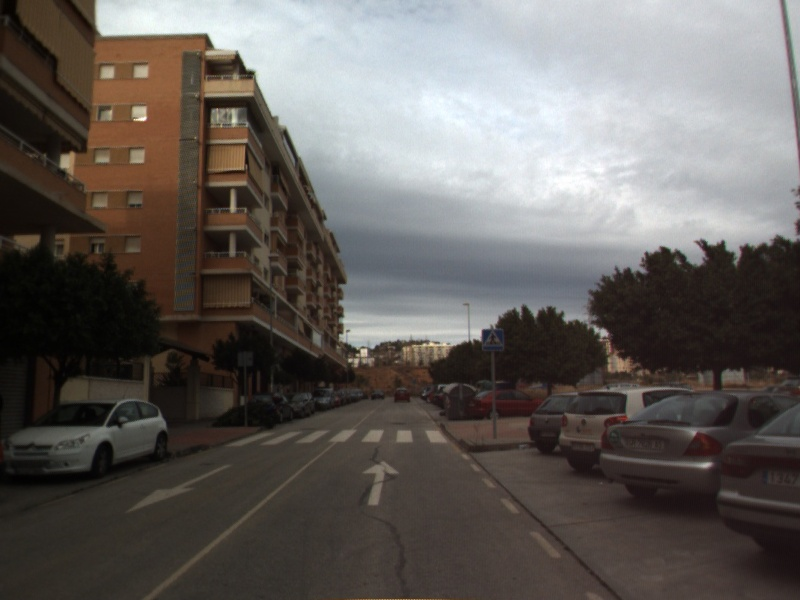STRAIGHT: (360, 458, 402, 508)
